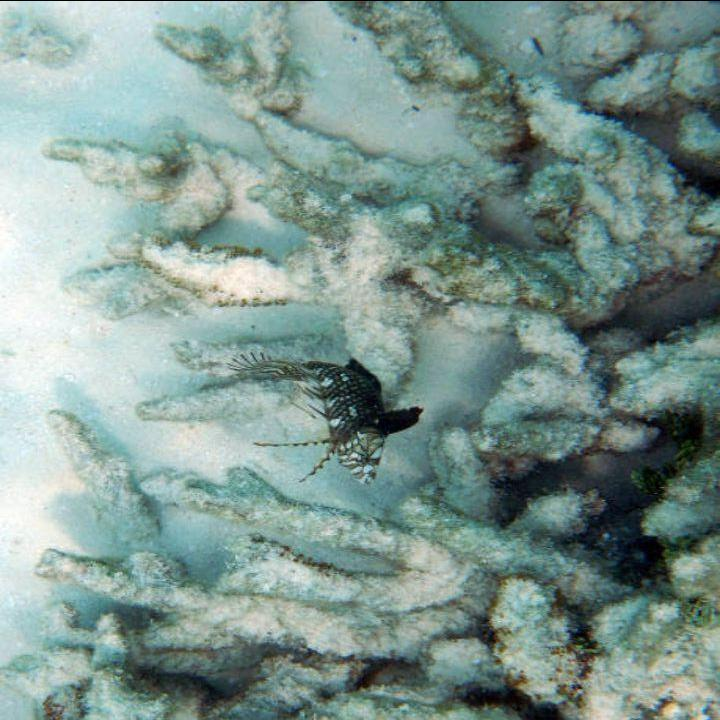Dead Coral: (72, 102, 584, 684)
